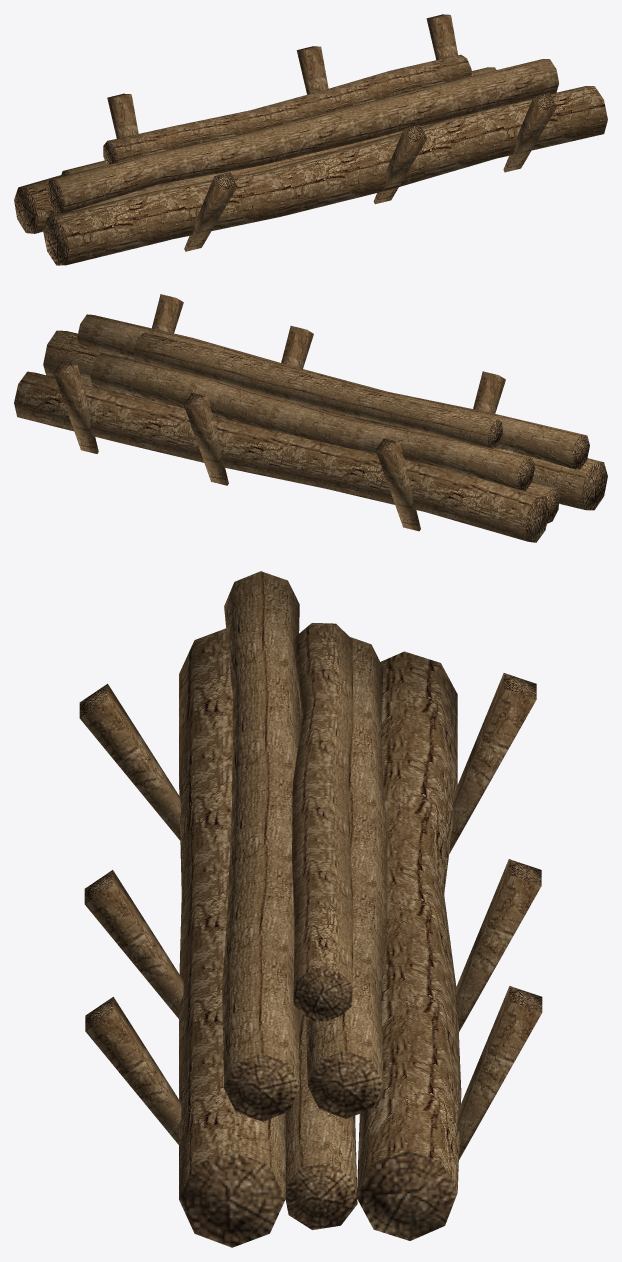
File: wood_pile.dae
3 views of the same model, one above another, from view 1: azimuth 30°, elevation 25°; view 2: azimuth 150°, elevation 25°; view 3: azimuth 270°, elevation 25° (orthographic). The views are drawn at different scales.
Parts seen in each view (by area): view 1: meshU3D; view 2: meshU3D; view 3: meshU3D.
Part boxes in pixels (bbox=[...]): meshU3D: bbox=[14, 14, 607, 265]; meshU3D: bbox=[14, 294, 607, 542]; meshU3D: bbox=[79, 571, 542, 1247].
Bounding box in the file's own units: 12.26 × 2.28 × 4.57.
